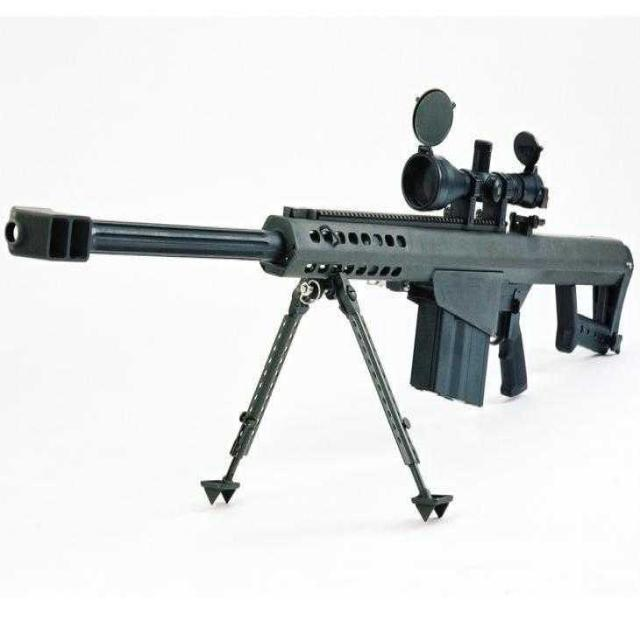heavyweapon: (2, 85, 636, 553)
